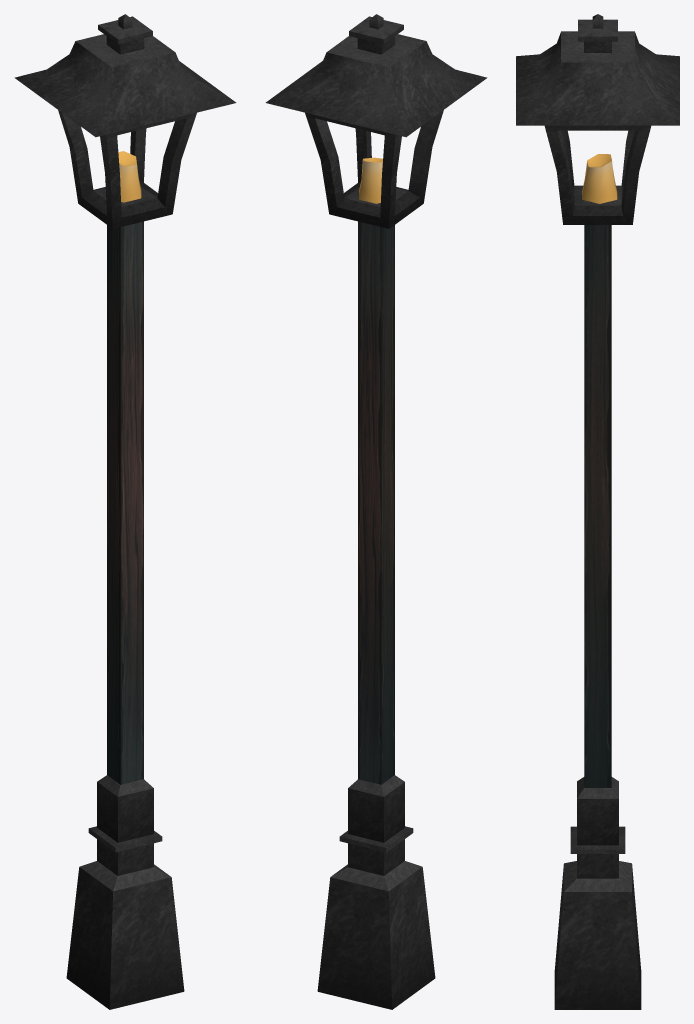
Rendered from Lamp_01.fbx.
3 renders of one model, left to right at view 1: azimuth 30°, elevation 25°; view 2: azimuth 150°, elevation 25°; view 3: azimuth 270°, elevation 25°, orthographic.
Parts seen in each view (by area): view 1: Lamp_01; view 2: Lamp_01; view 3: Lamp_01.
Part boxes in pixels (x1,y1,x2,y2): Lamp_01: (14, 14, 236, 1009); Lamp_01: (265, 14, 487, 1009); Lamp_01: (516, 14, 679, 1009).
Bounding box in the file's own units: 35.33 × 232 × 35.33.
